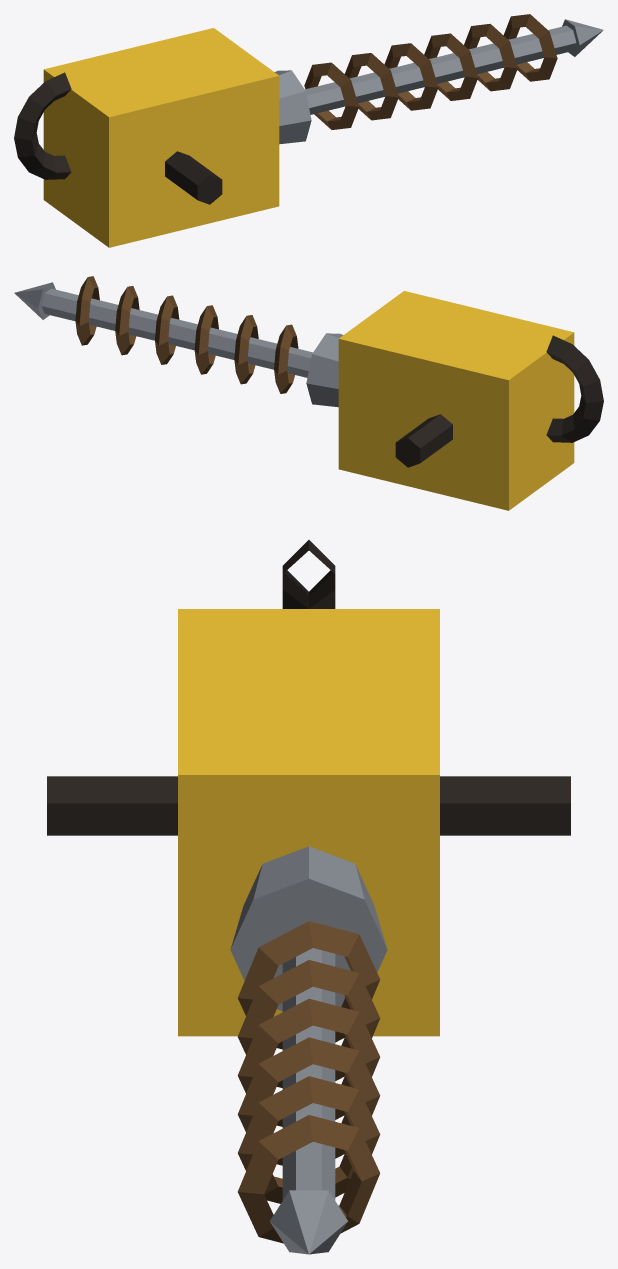
The model's file is digging_drill.glb.
3 renders of one model, top to bottom at view 1: azimuth 30°, elevation 25°; view 2: azimuth 150°, elevation 25°; view 3: azimuth 270°, elevation 25°, orthographic. The views are drawn at different scales.
Visible parts, largest first — view 1: motor_drill_body, auger_dirt, bit_drill_steel, grip_drill_black, chuck_drill_steel, tip_drill_steel; view 2: motor_drill_body, auger_dirt, bit_drill_steel, grip_drill_black, chuck_drill_steel, tip_drill_steel; view 3: motor_drill_body, auger_dirt, grip_drill_black, chuck_drill_steel, bit_drill_steel, tip_drill_steel.
Part boxes in pixels (x1=…): motor_drill_body: x1=43, y1=28, x2=279, y2=247; auger_dirt: x1=304, y1=14, x2=557, y2=129; bit_drill_steel: x1=305, y1=25, x2=576, y2=114; grip_drill_black: x1=14, y1=72, x2=222, y2=204; chuck_drill_steel: x1=274, y1=70, x2=311, y2=144; tip_drill_steel: x1=562, y1=19, x2=603, y2=56; motor_drill_body: x1=338, y1=291, x2=574, y2=510; auger_dirt: x1=75, y1=276, x2=298, y2=393; bit_drill_steel: x1=41, y1=288, x2=312, y2=377; grip_drill_black: x1=395, y1=335, x2=603, y2=467; chuck_drill_steel: x1=306, y1=333, x2=343, y2=407; tip_drill_steel: x1=14, y1=282, x2=55, y2=319; motor_drill_body: x1=178, y1=609, x2=439, y2=1036; auger_dirt: x1=237, y1=921, x2=380, y2=1243; grip_drill_black: x1=47, y1=540, x2=570, y2=835; chuck_drill_steel: x1=230, y1=846, x2=387, y2=1010; bit_drill_steel: x1=282, y1=948, x2=335, y2=1200; tip_drill_steel: x1=269, y1=1190, x2=348, y2=1254.
Bounding box in the file's own units: 1.04 × 0.26 × 0.4.
